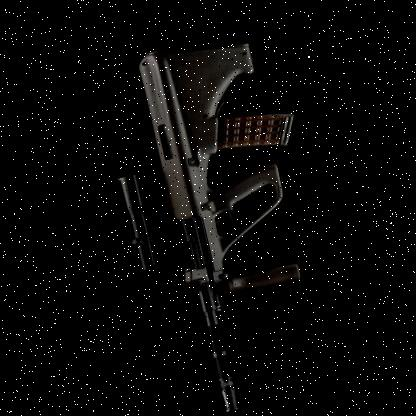rifle: (77, 18, 368, 416)
